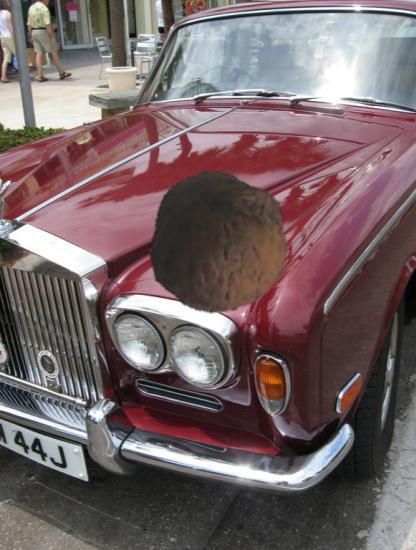Walnut: (145, 169, 290, 314)
